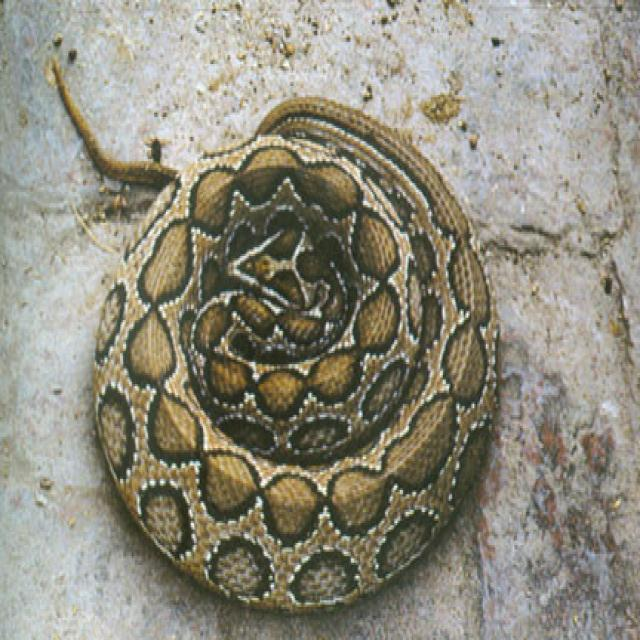Snake: (47, 49, 501, 614)
